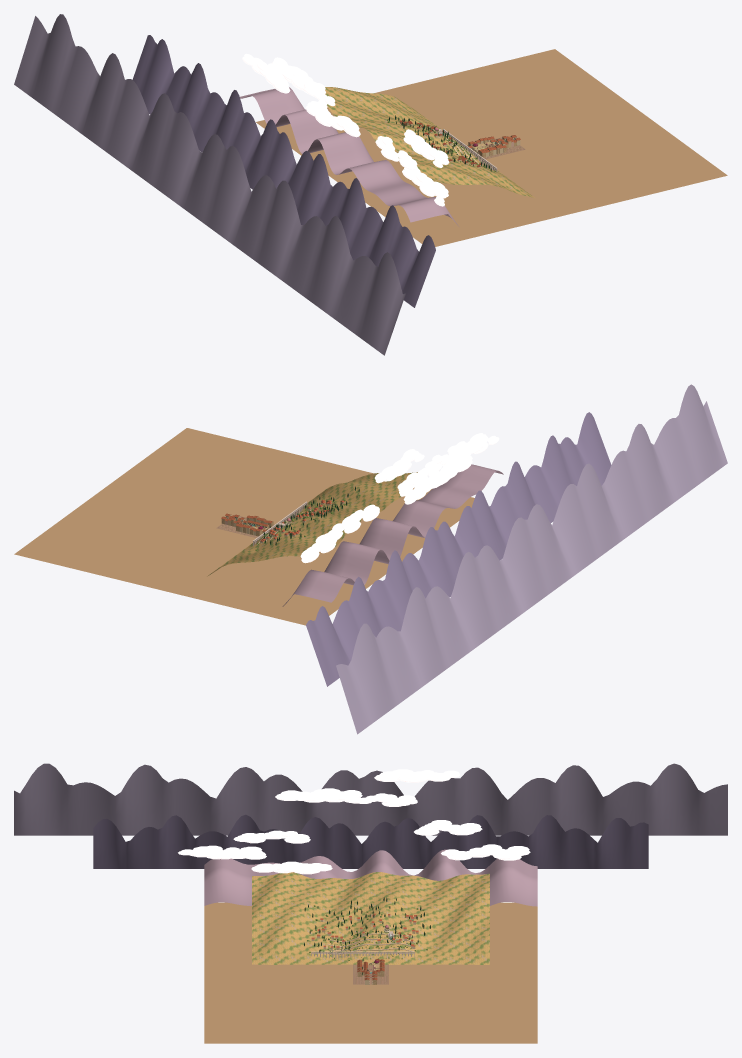
Rendered from nervix_arrival_square.glb.
3 renders of one model, top to bottom at view 1: azimuth 30°, elevation 25°; view 2: azimuth 150°, elevation 25°; view 3: azimuth 270°, elevation 25°, orthographic. The views are drawn at different scales.
Visible parts, largest first — view 1: mountains, ground_far, far_ridge, hillside, sky_clouds; view 2: mountains, ground_far, far_ridge, hillside, sky_clouds; view 3: mountains, ground_far, hillside, far_ridge, sky_clouds, hill_cypress, hill_village, hill_olives.
Boxes of the visible parts, box(x1,y1,x2,y2) form: mountains: box(14, 14, 435, 355); ground_far: box(256, 49, 727, 246); far_ridge: box(240, 87, 458, 226); hillside: box(325, 87, 535, 198); sky_clouds: box(242, 53, 449, 206); mountains: box(306, 384, 727, 734); ground_far: box(14, 428, 474, 625); far_ridge: box(282, 464, 503, 606); hillside: box(207, 472, 417, 576); sky_clouds: box(300, 433, 499, 563); mountains: box(14, 763, 727, 868); ground_far: box(204, 902, 537, 1043); hillside: box(252, 872, 489, 964); far_ridge: box(204, 849, 537, 906); sky_clouds: box(178, 769, 530, 874); hill_cypress: box(304, 897, 430, 952); hill_village: box(311, 913, 418, 949); hill_olives: box(307, 905, 427, 961).
Bounding box in the file's own units: 1240 × 308 × 1800.
114 materials, 24 textured.
